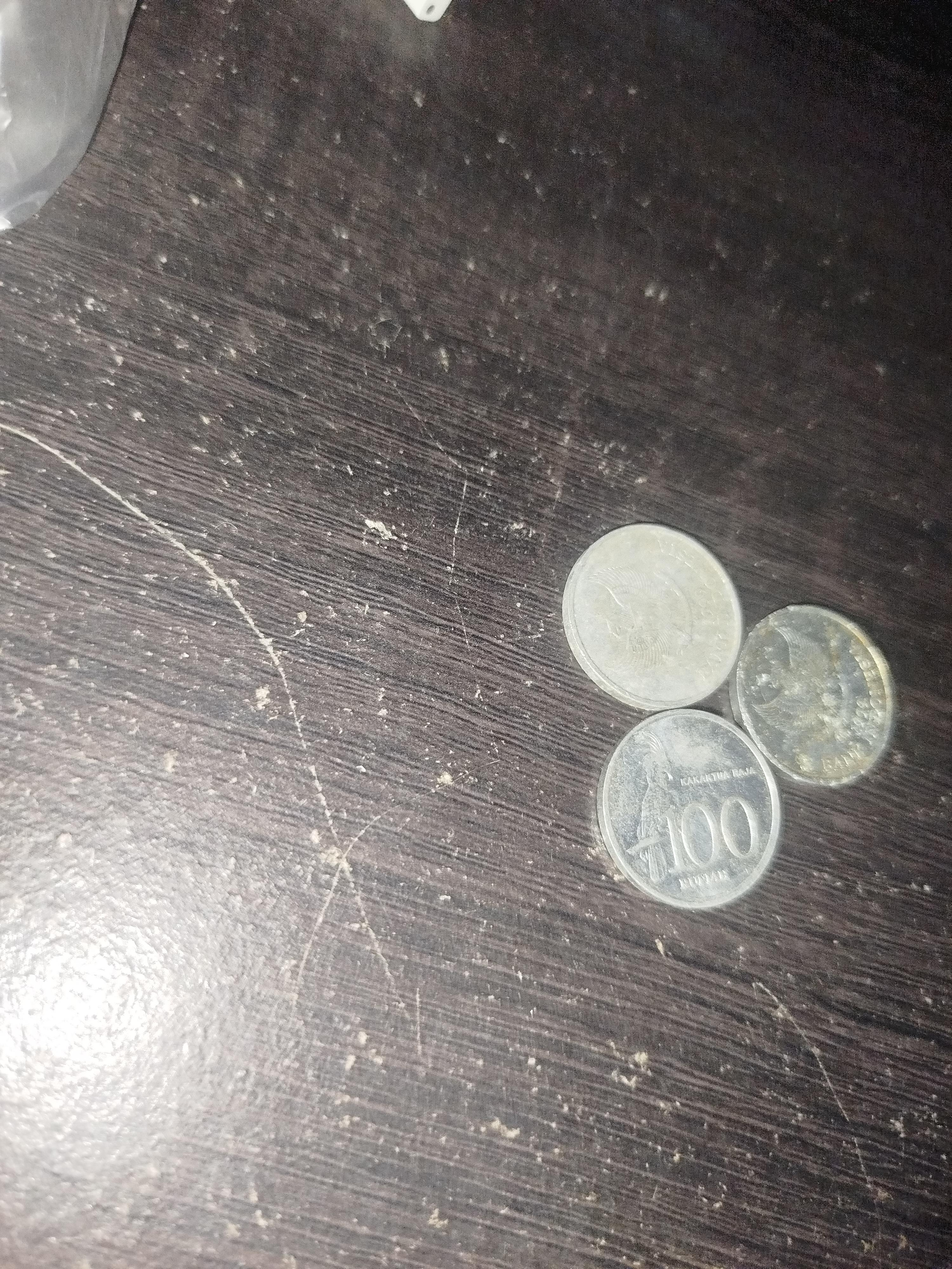coin_100_e1999: (555, 702, 793, 922), (546, 518, 750, 719), (738, 594, 897, 787)
